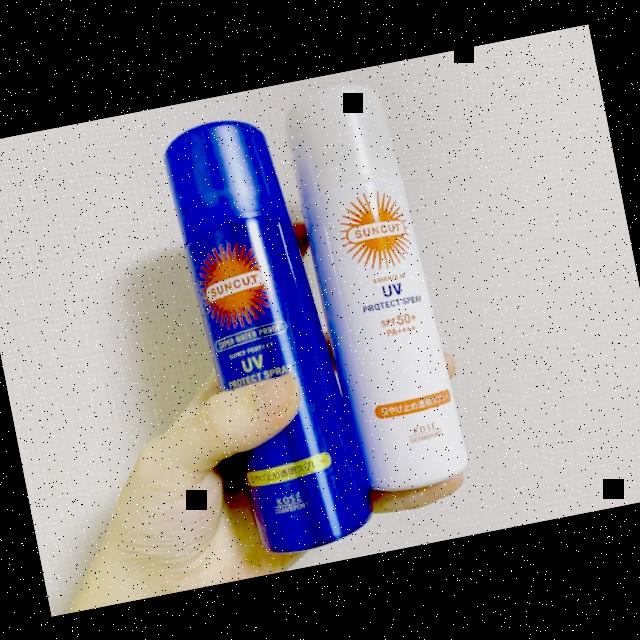chemical_spray_can: (261, 54, 540, 558), (143, 98, 374, 570)
